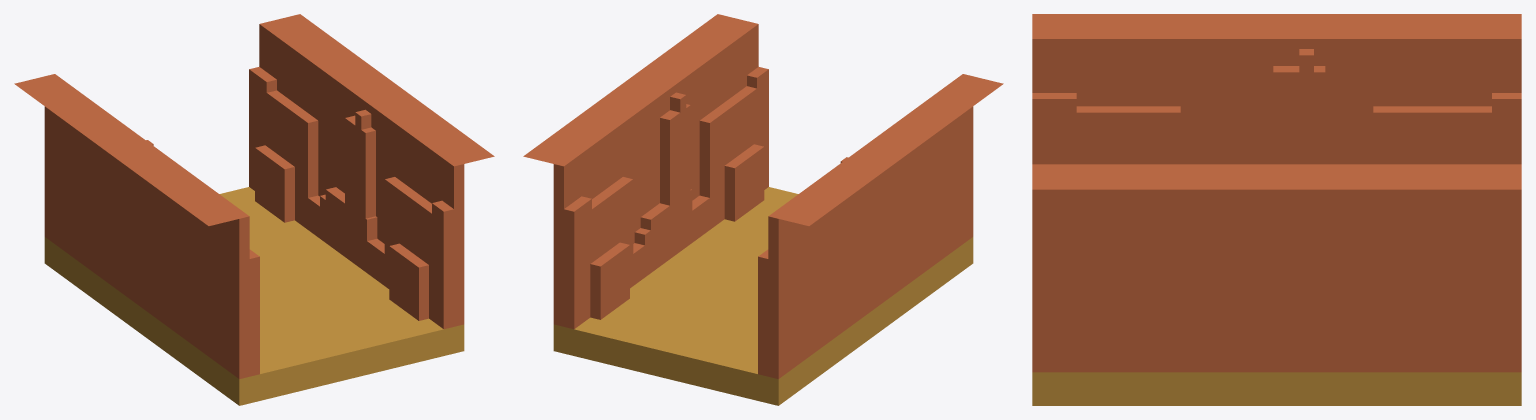
Rendered from MeshAmbiente.fbx.
The picture shows the model from 3 angles, left to right: view 1: azimuth 30°, elevation 25°; view 2: azimuth 150°, elevation 25°; view 3: azimuth 270°, elevation 25°; orthographic projection. The views are drawn at different scales.
Visible parts, largest first — view 1: Connect_1, Connect, Cube, tetto_1, tetto_2; view 2: Connect_1, Connect, Cube, tetto_1, tetto_2; view 3: Connect_1, Connect, Cube, tetto_2, tetto_1.
Part boxes in pixels (x1,y1,x2,y2): Connect_1: [249, 21, 464, 329]; Connect: [44, 74, 259, 379]; Cube: [44, 187, 464, 405]; tetto_1: [14, 76, 238, 225]; tetto_2: [270, 14, 494, 163]; Connect_1: [553, 21, 768, 329]; Connect: [758, 74, 973, 379]; Cube: [553, 187, 973, 405]; tetto_1: [779, 76, 1003, 225]; tetto_2: [523, 14, 747, 163]; Connect_1: [1032, 164, 1521, 372]; Connect: [1032, 32, 1521, 164]; Cube: [1032, 372, 1521, 405]; tetto_2: [1032, 170, 1521, 189]; tetto_1: [1032, 14, 1521, 32].
Bounding box in the file's own units: 5600 × 3500 × 6600.
